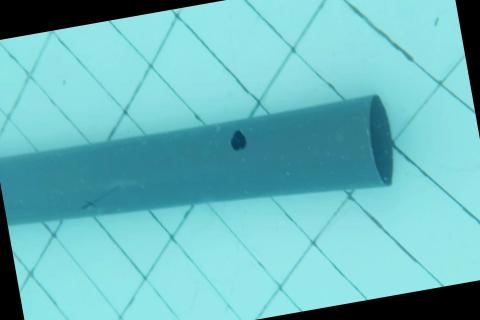kebocoran: (227, 127, 248, 152)
keretakan: (77, 185, 122, 212)
